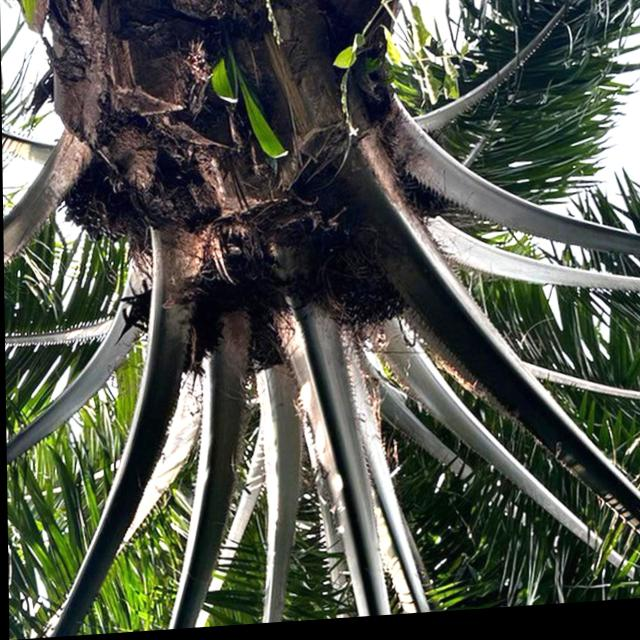unripe: (300, 210, 426, 341), (49, 163, 148, 261)
